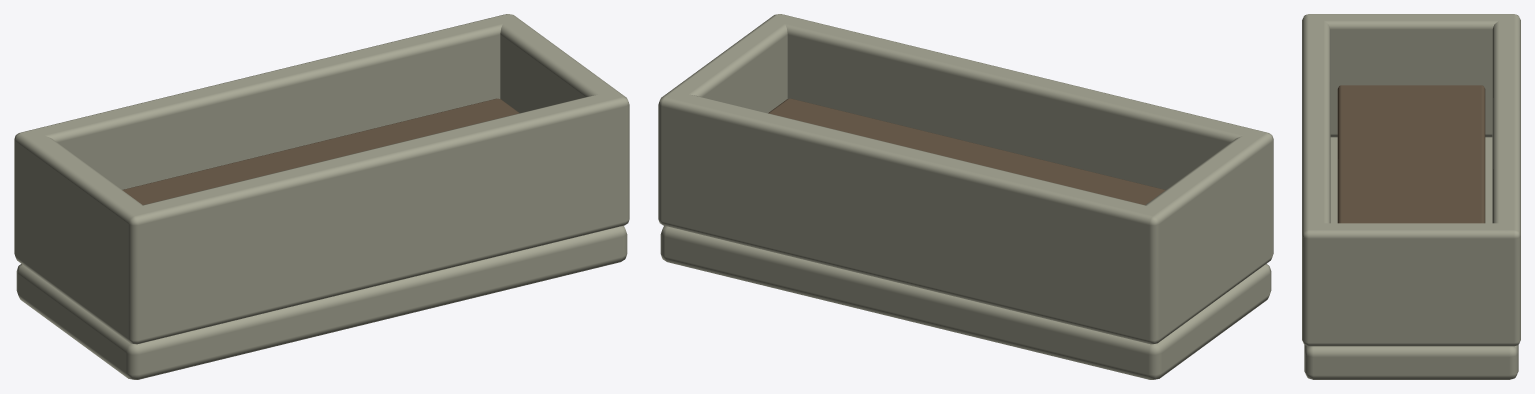
Rendered from almanac-gardens-stone-trough-a9a53d71__22023.glb.
3 views of the same model, side by side, from view 1: azimuth 30°, elevation 25°; view 2: azimuth 150°, elevation 25°; view 3: azimuth 270°, elevation 25° (orthographic). The views are drawn at different scales.
Parts seen in each view (by area): view 1: stone-trough-stone, stone-trough-soil; view 2: stone-trough-stone, stone-trough-soil; view 3: stone-trough-stone, stone-trough-soil.
Boxes of the visible parts, left/top/right/bottom form: stone-trough-stone: left=14, top=14, right=629, bottom=379; stone-trough-soil: left=122, top=98, right=519, bottom=204; stone-trough-stone: left=658, top=14, right=1273, bottom=379; stone-trough-soil: left=768, top=98, right=1165, bottom=204; stone-trough-stone: left=1302, top=14, right=1520, bottom=379; stone-trough-soil: left=1337, top=85, right=1485, bottom=223.
Size of the model in its own units: 1.1 by 0.35 by 0.4599.
